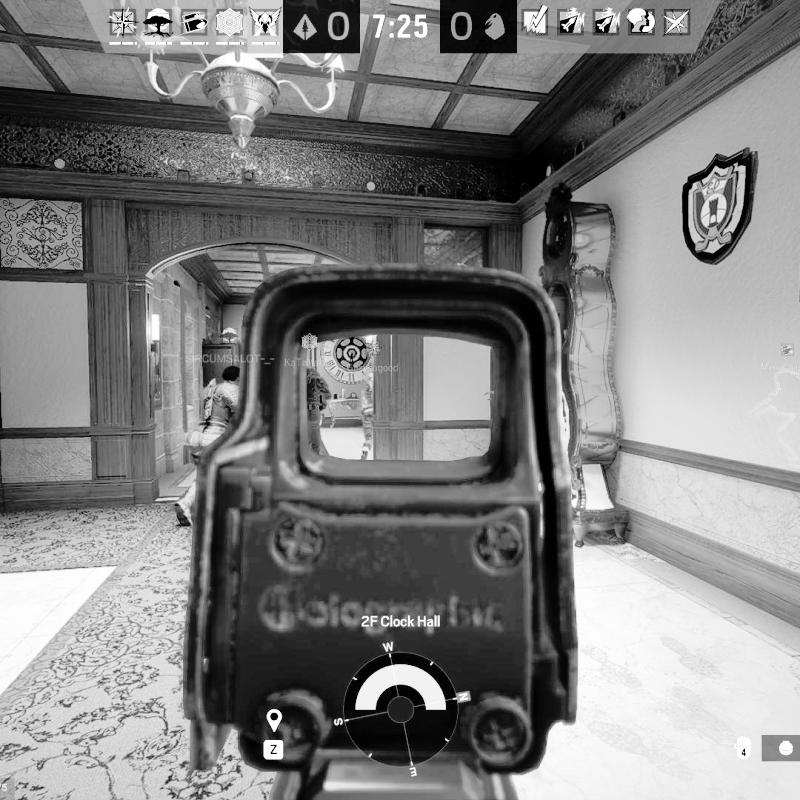Character: (172, 365, 245, 530), (300, 368, 334, 458), (359, 374, 376, 458)
Friend_label: (186, 324, 258, 366), (345, 340, 404, 374), (282, 332, 335, 368), (756, 340, 800, 376)
Head: (221, 367, 242, 385)
